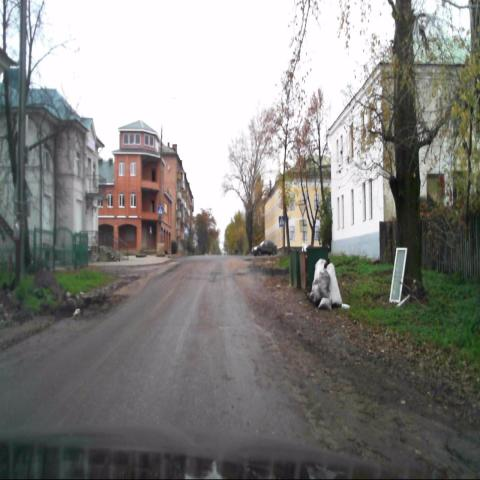2_4: (298, 203, 307, 217)
5_19_1: (157, 205, 164, 216)
